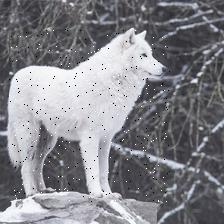WOLF: (10, 28, 171, 202)
